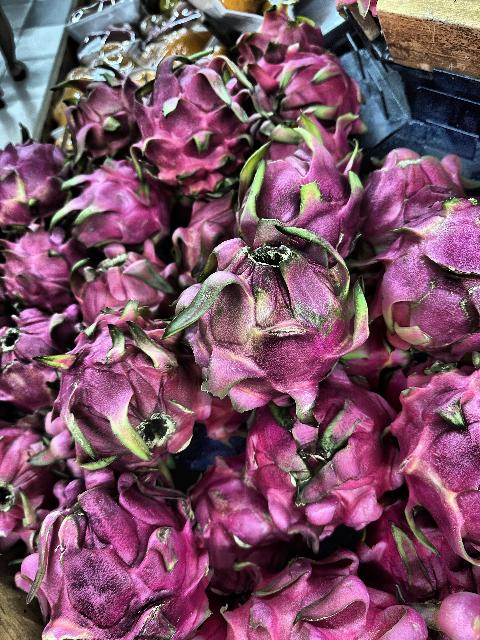buah-naga-belum-matang: (184, 230, 362, 406)
buah-naga-matang: (26, 476, 228, 640), (230, 386, 406, 536), (48, 327, 207, 467), (392, 354, 480, 566), (222, 554, 426, 640), (120, 72, 248, 202), (380, 193, 480, 359), (232, 152, 370, 260), (56, 160, 176, 246), (192, 462, 283, 568), (364, 138, 463, 235), (254, 48, 364, 132), (68, 240, 177, 324), (48, 76, 146, 160), (0, 419, 60, 543), (2, 130, 74, 228), (2, 230, 80, 314), (0, 320, 60, 402), (234, 10, 318, 58)
